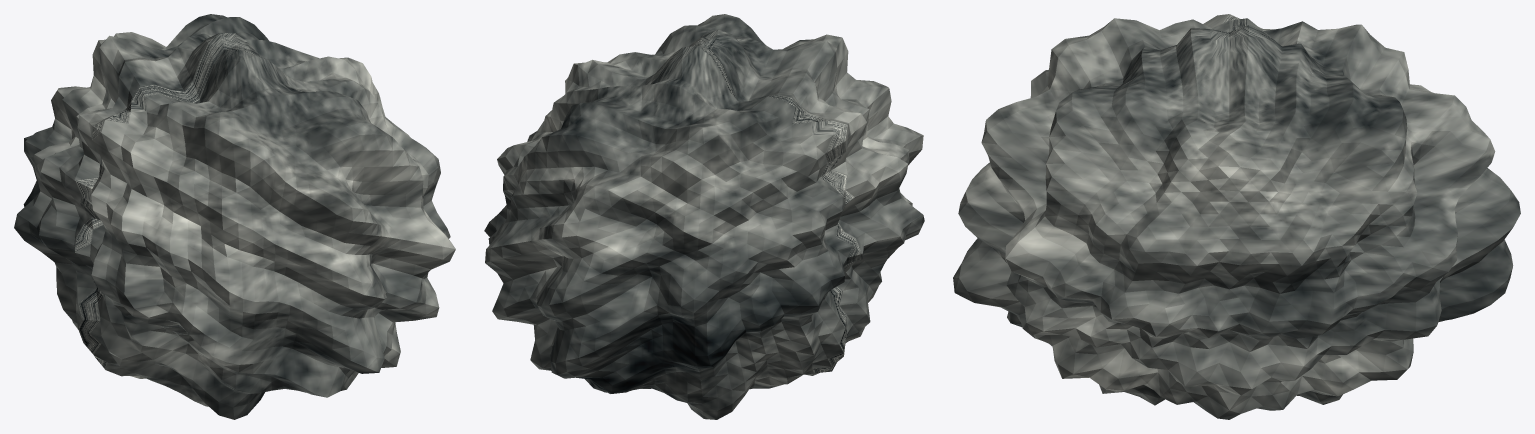
The model's file is giant_02.glb.
3 views of the same model, side by side, from view 1: azimuth 30°, elevation 25°; view 2: azimuth 150°, elevation 25°; view 3: azimuth 270°, elevation 25° (orthographic). The views are drawn at different scales.
Parts seen in each view (by area): view 1: rock; view 2: rock; view 3: rock.
Boxes of the visible parts, left/top/right/bottom form: rock: left=14, top=14, right=455, bottom=419; rock: left=484, top=14, right=924, bottom=419; rock: left=953, top=14, right=1520, bottom=419.
Size of the model in its own units: 14.55 by 13.87 by 19.84.
1 material, 1 textured.
